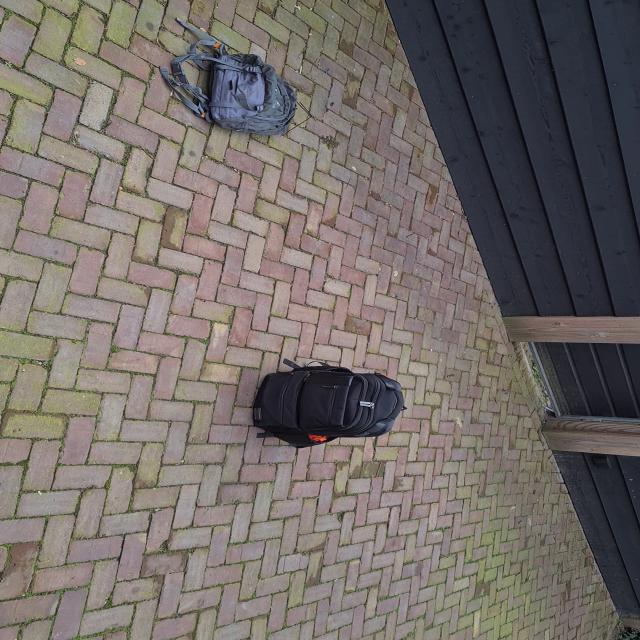backpack: (244, 356, 412, 448), (158, 41, 304, 137)
